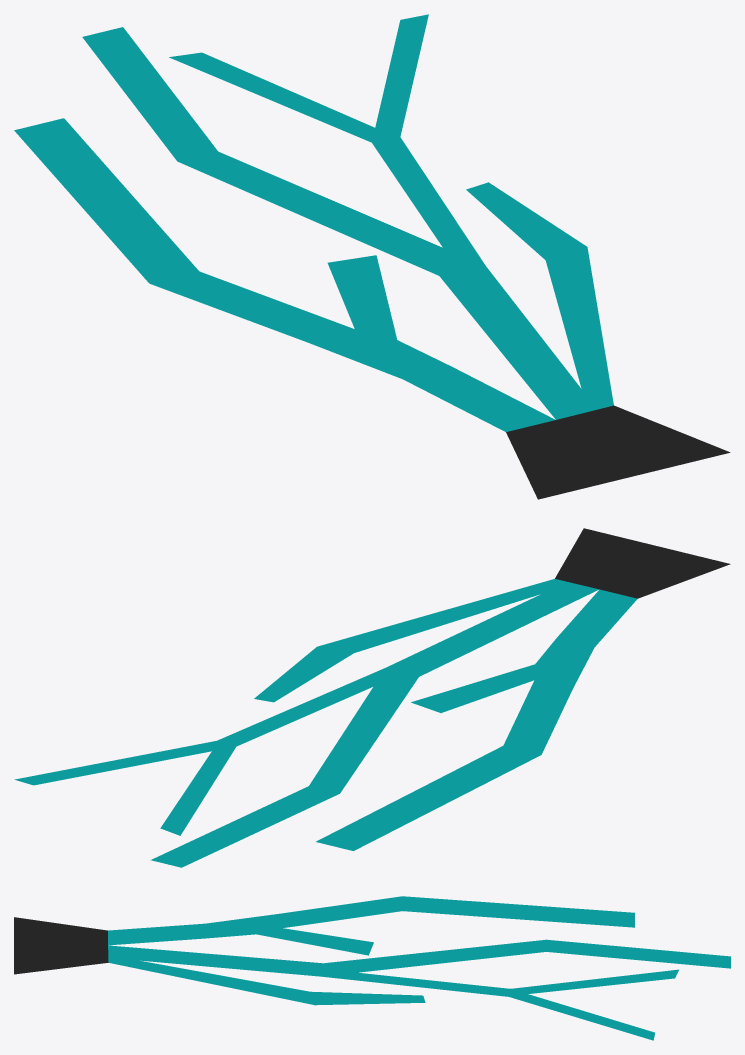
The model's file is plant4.obj.
3 renders of one model, top to bottom at view 1: azimuth 30°, elevation 25°; view 2: azimuth 150°, elevation 25°; view 3: azimuth 270°, elevation 25°, orthographic. The views are drawn at different scales.
Parts seen in each view (by area): view 1: Plane; view 2: Plane; view 3: Plane.
Part boxes in pixels (<box>): Plane: <box>14,14,730,499</box>; Plane: <box>14,528,730,867</box>; Plane: <box>14,896,730,1040</box>.
Size of the model in its own units: 6.51 by 3.4e-05 by 13.65.
Materials: 1 (1 with a texture image).
